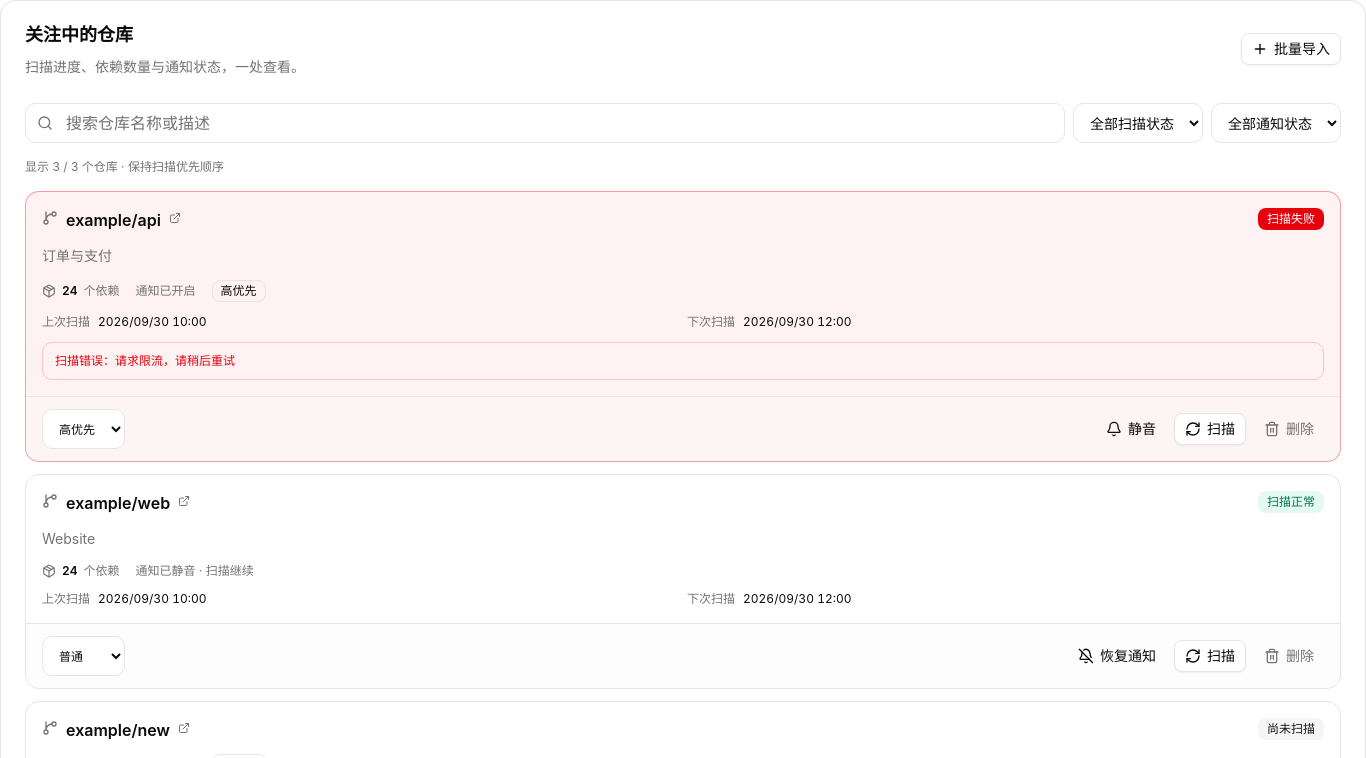
Scenario: repository dashboard list › combines local name/description search with scan and notification filters without mutations
The width and height of the screenshot is (1366, 758).
Type "  WEBSITE  " into the search field named "搜索关注仓库" at [545, 123], box [25,103,1065,143]
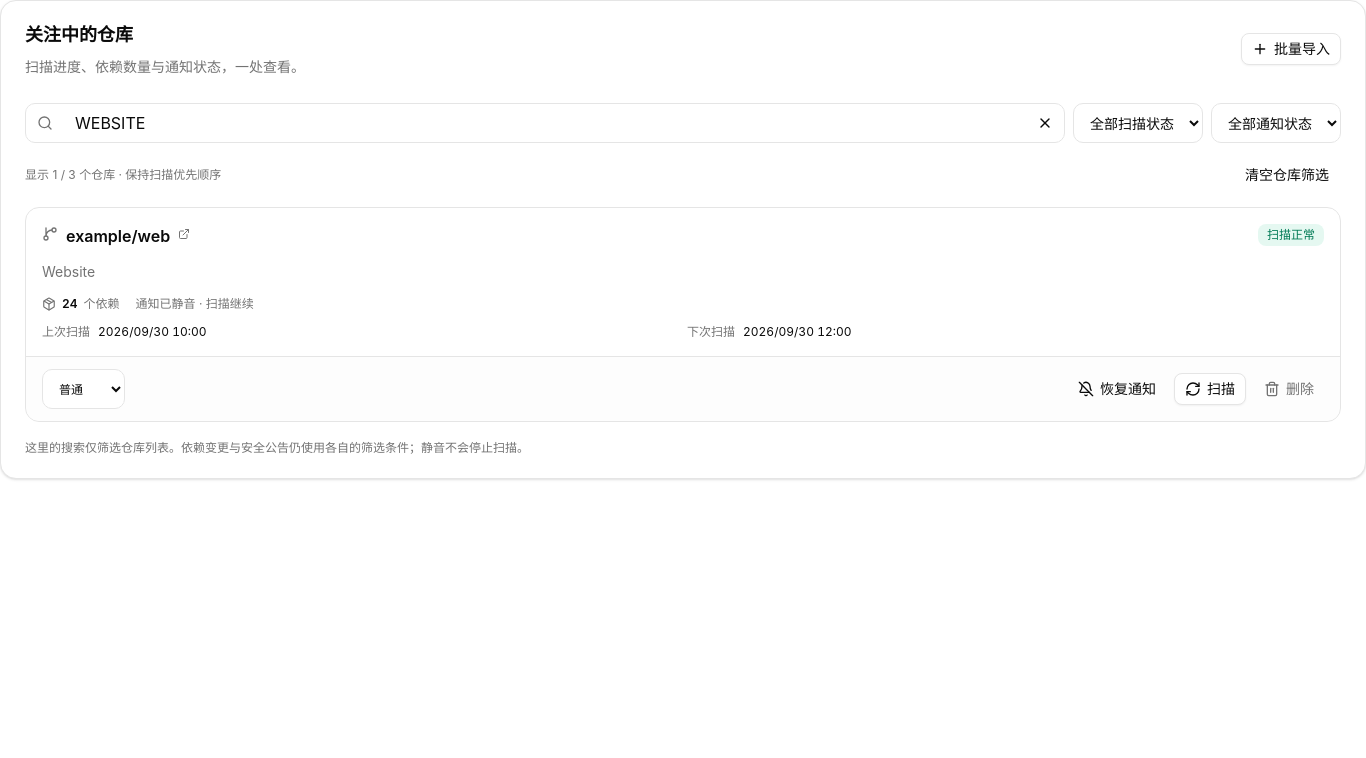
Check: the list item shows "example/web", box [42,224,190,248]
Check: the number of list items is 1, box [25,207,1341,422]
Select "通知开启" in the dropdown named "仓库通知状态" at [1276, 123], box [1211,103,1341,143]
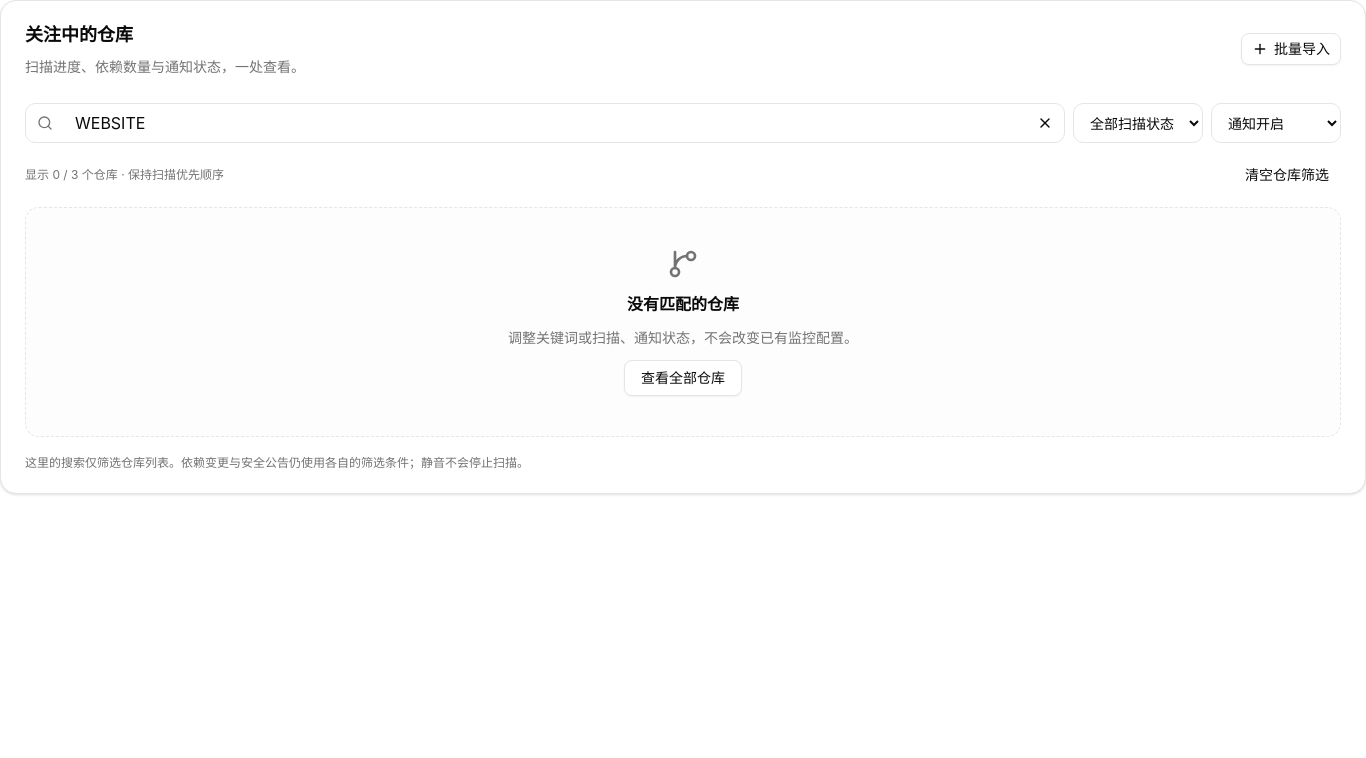
Check: the heading "没有匹配的仓库" is shown, box [627,292,739,316]
Check: the message shows "显示 0 / 3 个仓库", box [25,167,224,183]
Click the button "查看全部仓库" at [683, 378], box [624,360,742,396]
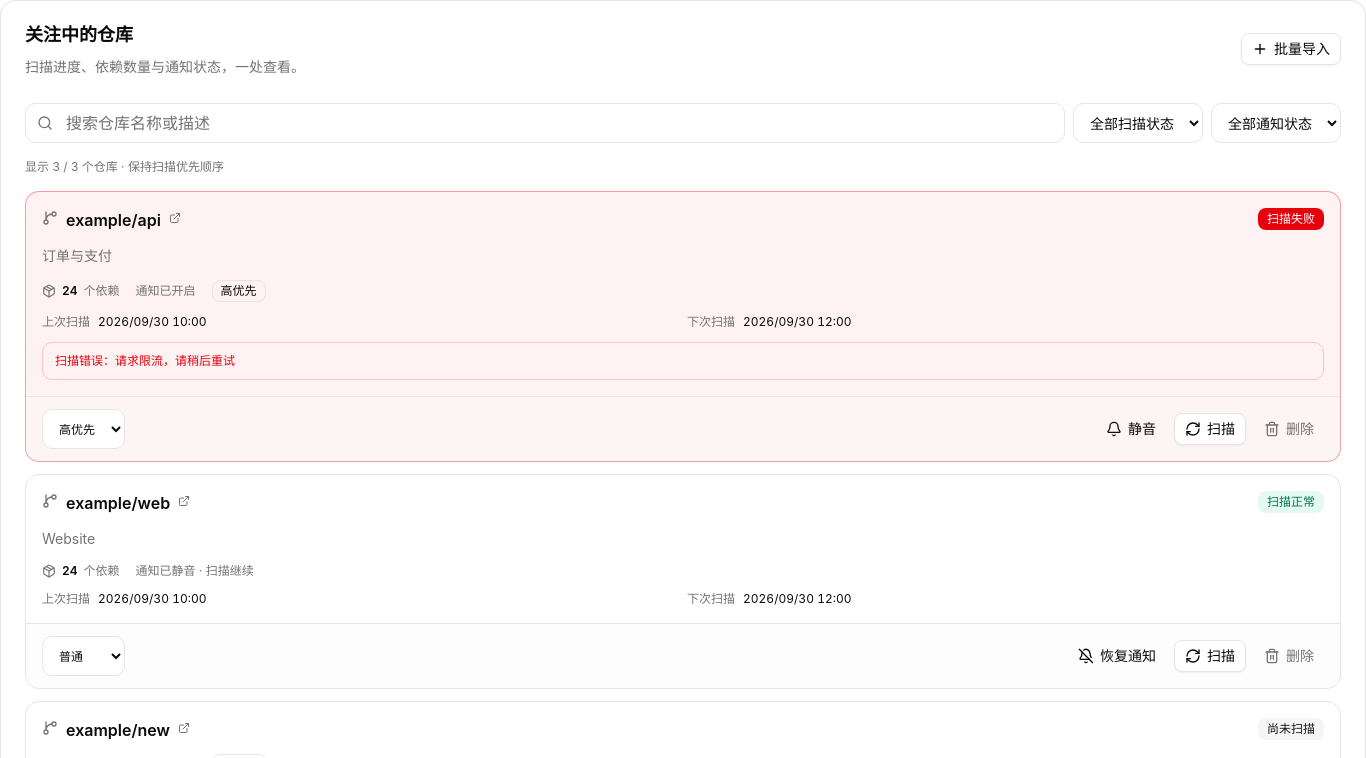
Select "尚未扫描" in the dropdown named "仓库扫描状态" at [1138, 123], box [1073,103,1203,143]
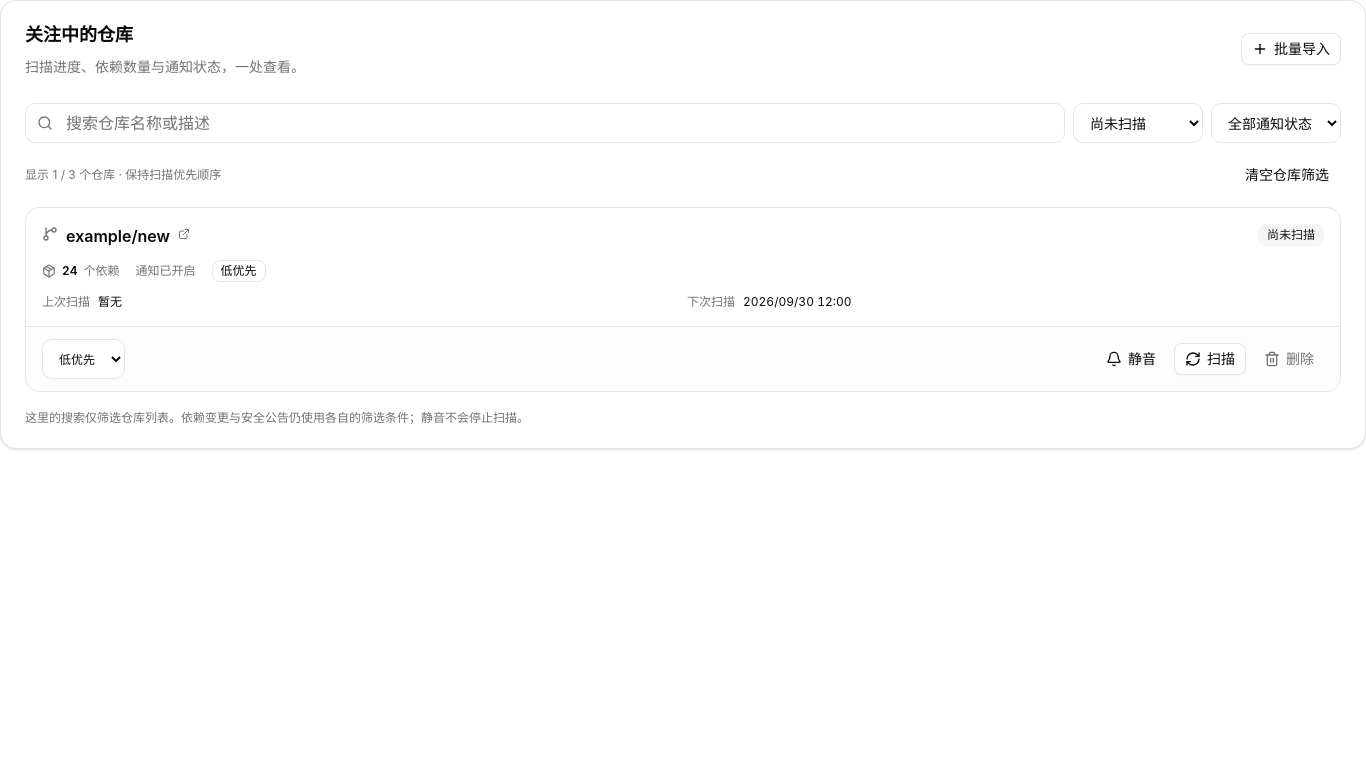
Check: the list item shows "example/new", box [42,224,190,248]
Check: the number of list items is 1, box [25,207,1341,392]
